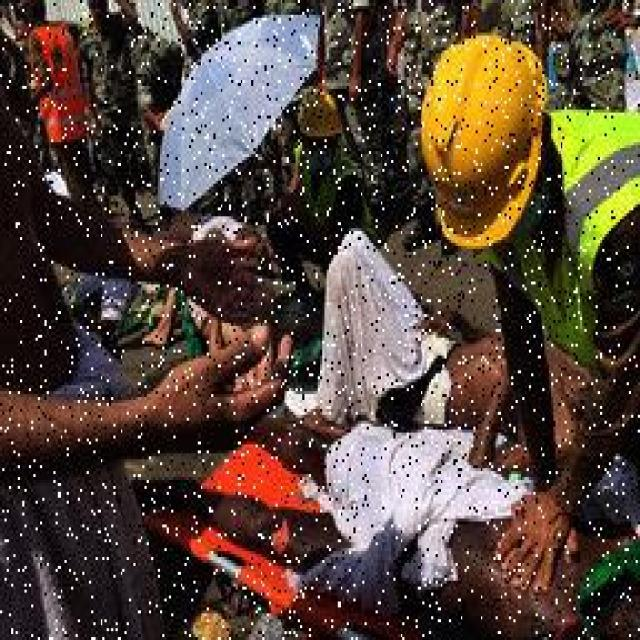fall: (318, 240, 604, 430)
